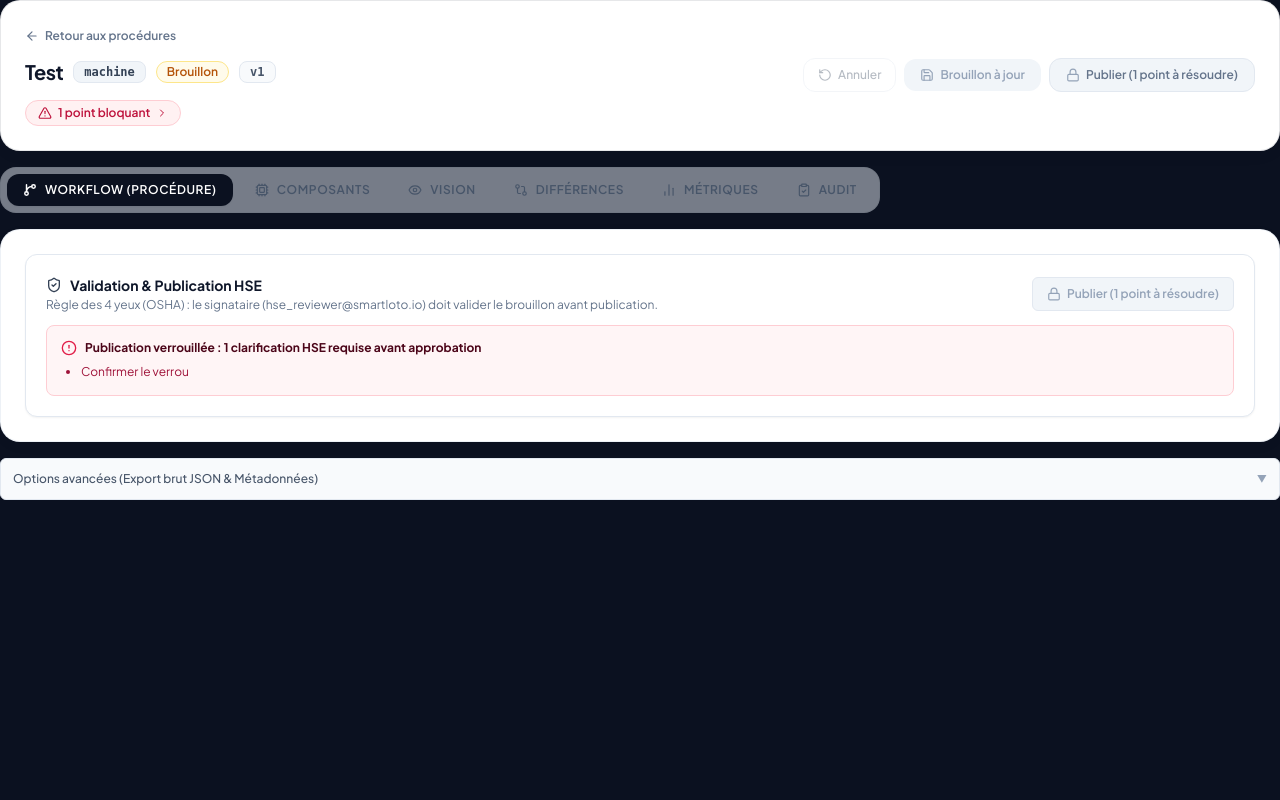
Test: central resolution and reactive metrics › shows server failure and keeps the point unresolved
Step 1. Click the button "Publier (1 point à résoudre)" in the row of "machine" → point(1152, 75), box 1049,58 -> 1255,92
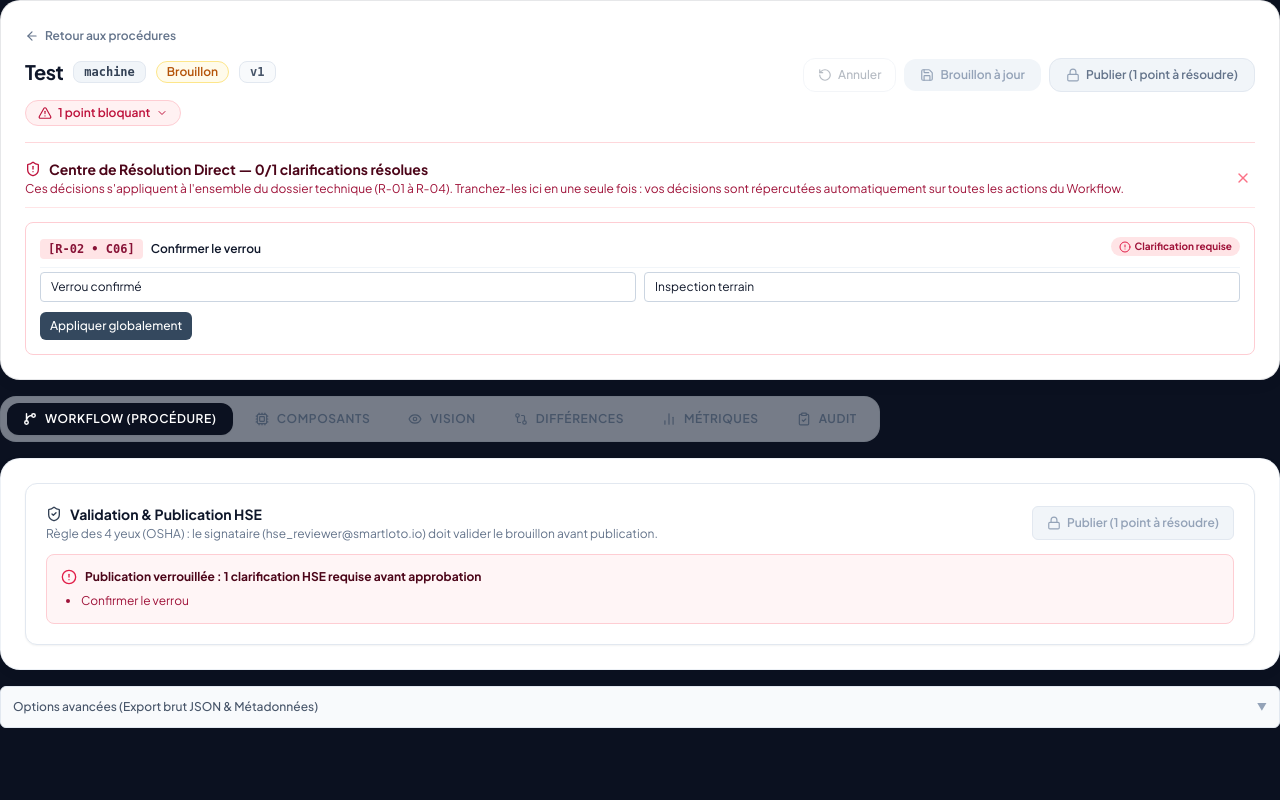
Step 2. Click the button "Appliquer globalement" → point(116, 326), box 40,312 -> 192,340
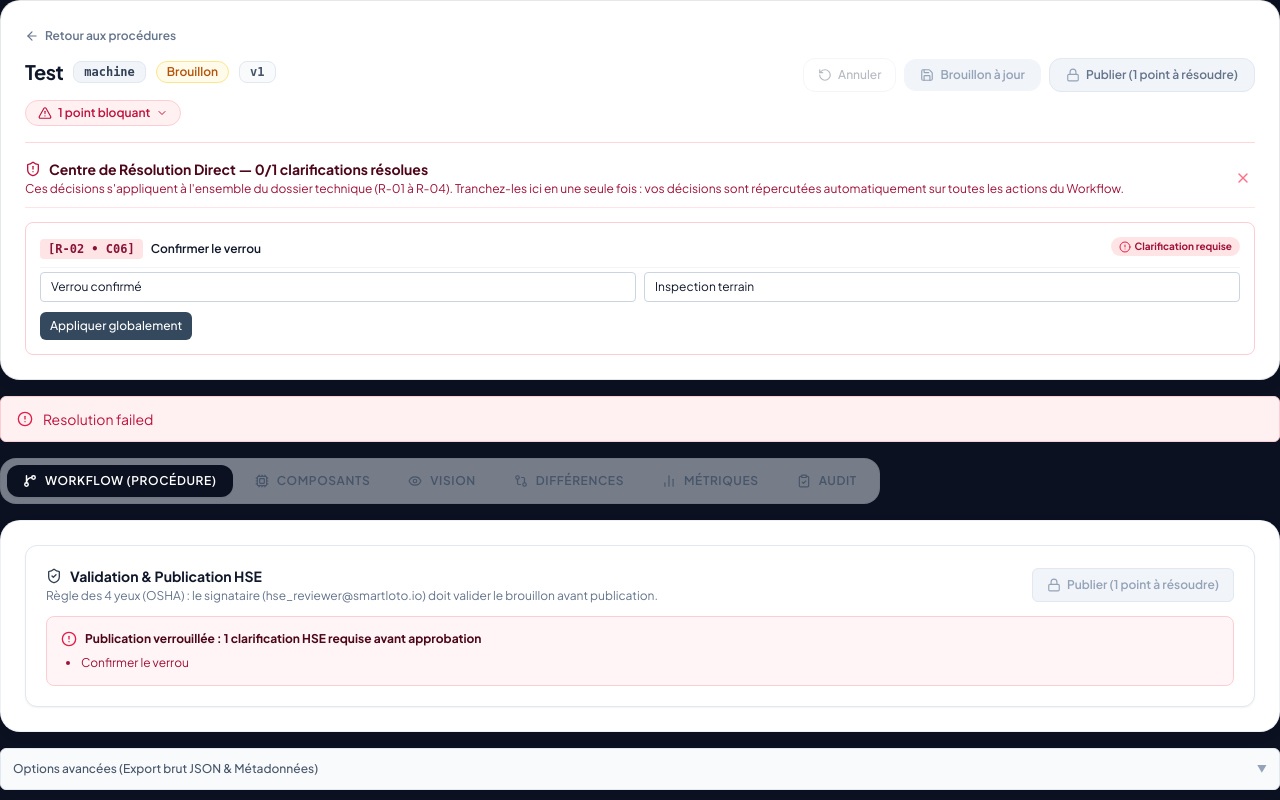
Result: the text "Resolution failed" is shown at 43,408 -> 153,428
